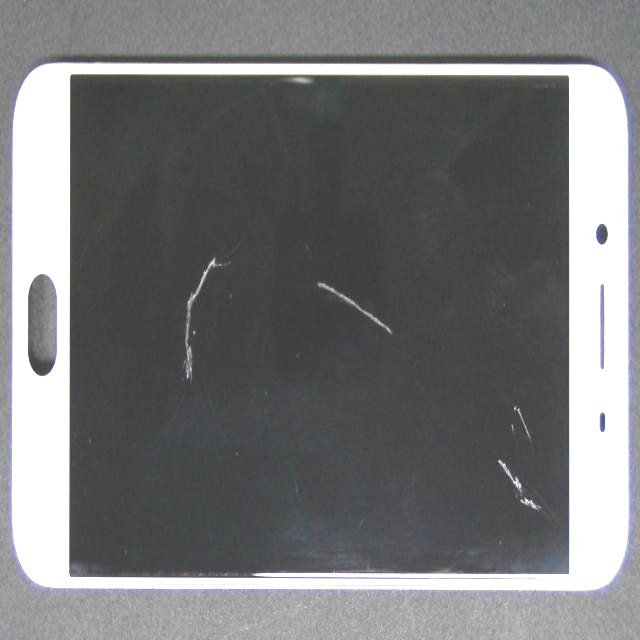scratch: (280, 210, 640, 603), (251, 200, 573, 460), (130, 114, 337, 349)
